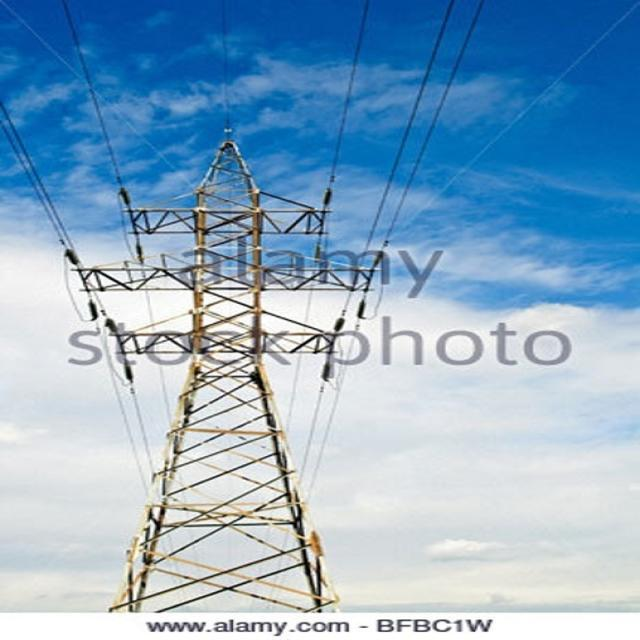non-critical vegetation: (69, 120, 364, 608)
